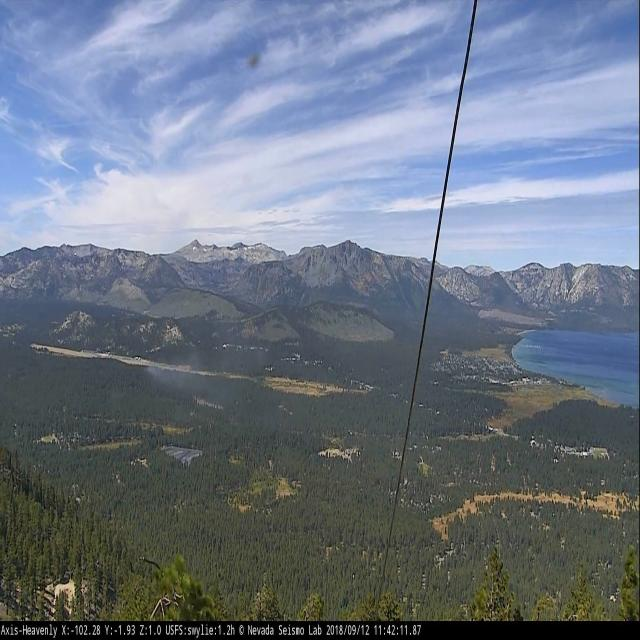smoke: (146, 353, 197, 378)
